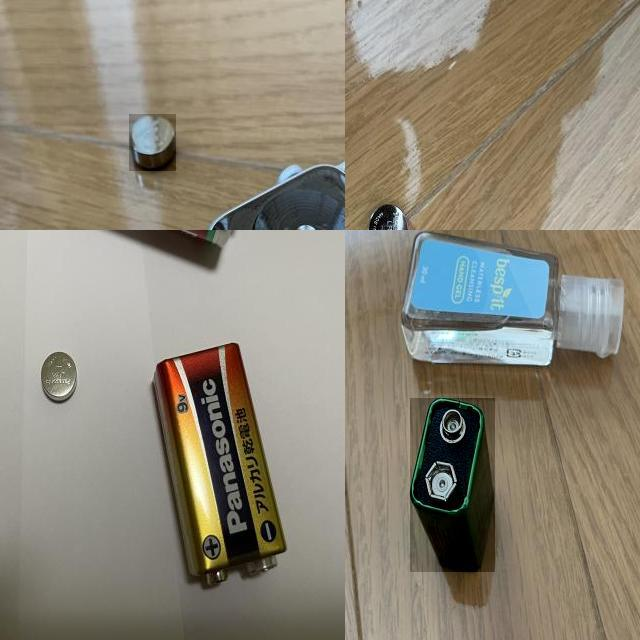9V: (152, 340, 285, 586), (410, 398, 495, 572)
